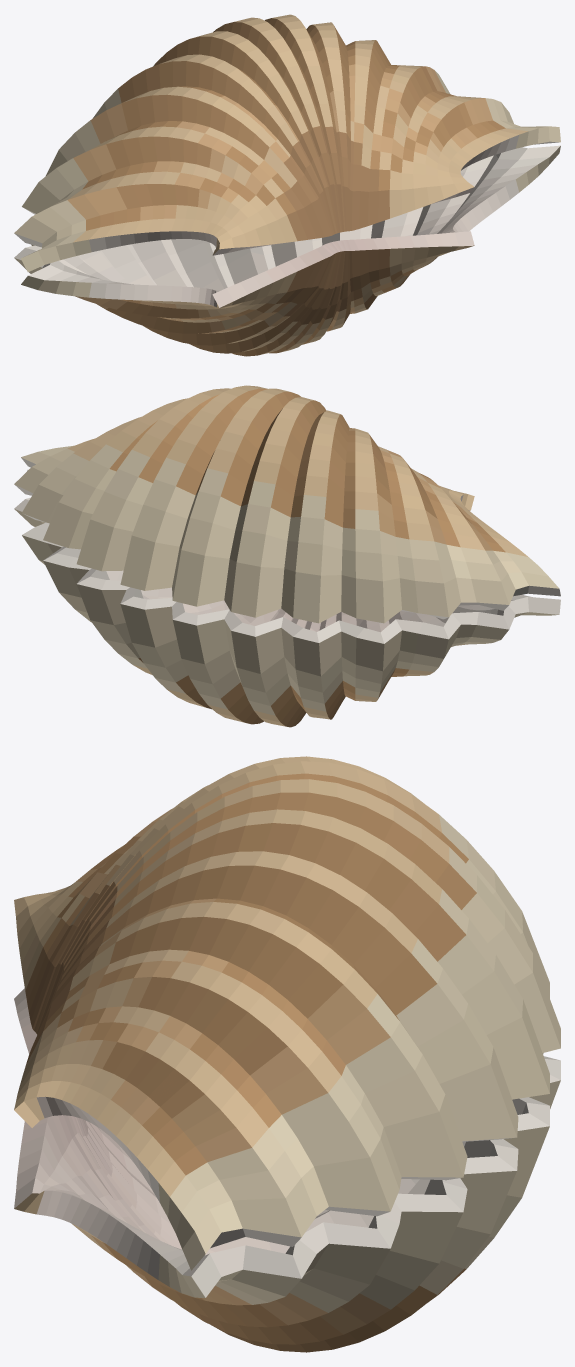
Rendered from Clam_Closed.glb.
The picture shows the model from 3 angles, top to bottom: view 1: azimuth 30°, elevation 25°; view 2: azimuth 150°, elevation 25°; view 3: azimuth 270°, elevation 25°; orthographic projection. The views are drawn at different scales.
Visible parts, largest first — view 1: Clam_Closed; view 2: Clam_Closed; view 3: Clam_Closed.
Boxes of the visible parts, bbox=[...] form: Clam_Closed: bbox=[14, 14, 560, 356]; Clam_Closed: bbox=[14, 385, 560, 727]; Clam_Closed: bbox=[14, 756, 560, 1352].
Bounding box in the file's own units: 1.99 × 1.13 × 1.04.
